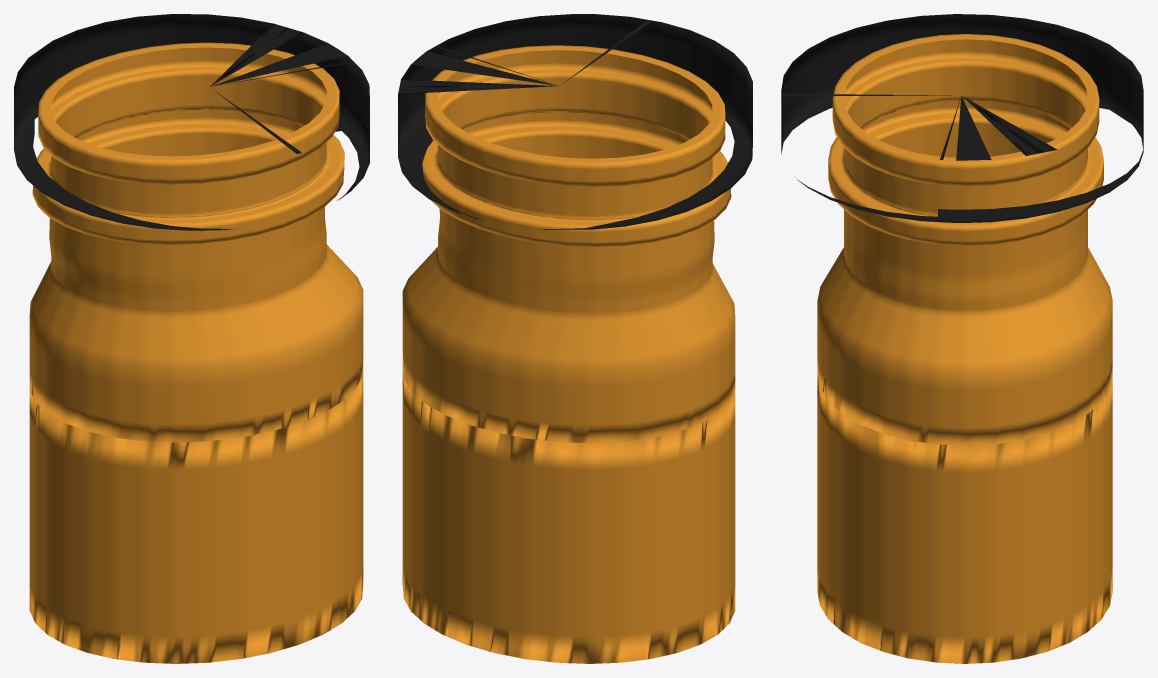
File: pastillas .fbx
3 renders of one model, left to right at view 1: azimuth 30°, elevation 25°; view 2: azimuth 150°, elevation 25°; view 3: azimuth 270°, elevation 25°, orthographic.
Parts seen in each view (by area): view 1: Cilindro.001, Cilindro.004; view 2: Cilindro.001, Cilindro.004; view 3: Cilindro.001, Cilindro.004.
Boxes of the visible parts, box(x1,y1,x2,y2) form: Cilindro.001: box(29, 42, 363, 663); Cilindro.004: box(14, 14, 369, 230); Cilindro.001: box(402, 45, 735, 663); Cilindro.004: box(398, 14, 752, 229); Cilindro.001: box(817, 34, 1112, 663); Cilindro.004: box(781, 14, 1143, 222).
Bounding box in the file's own units: 291 × 461 × 301.
